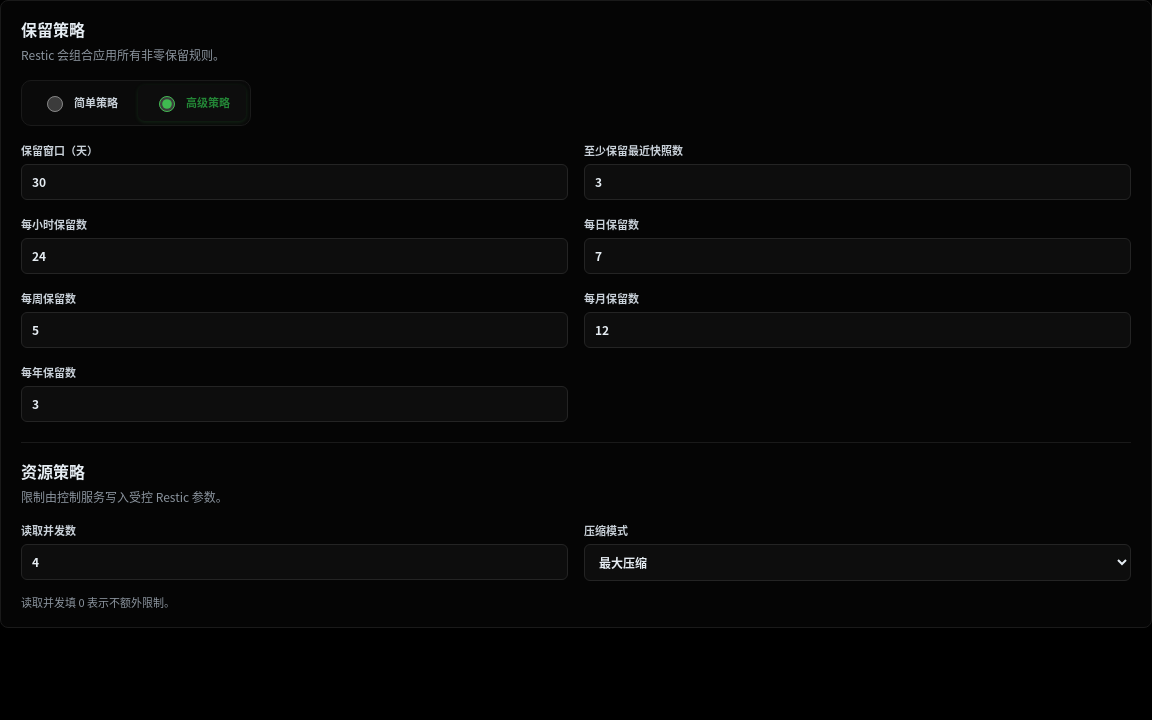
Test: ProtectionPolicyEditor › preserves every advanced value while switching modes
Check: the radio button labelled "高级策略" is checked, box [159,96,175,112]
Check: the number field labelled "每小时保留数" holds "24", box [21,238,568,274]
Replace the text in the number field labelled "每日保留数" with "8". click: point(858, 256)
box: [584,238,1131,274]
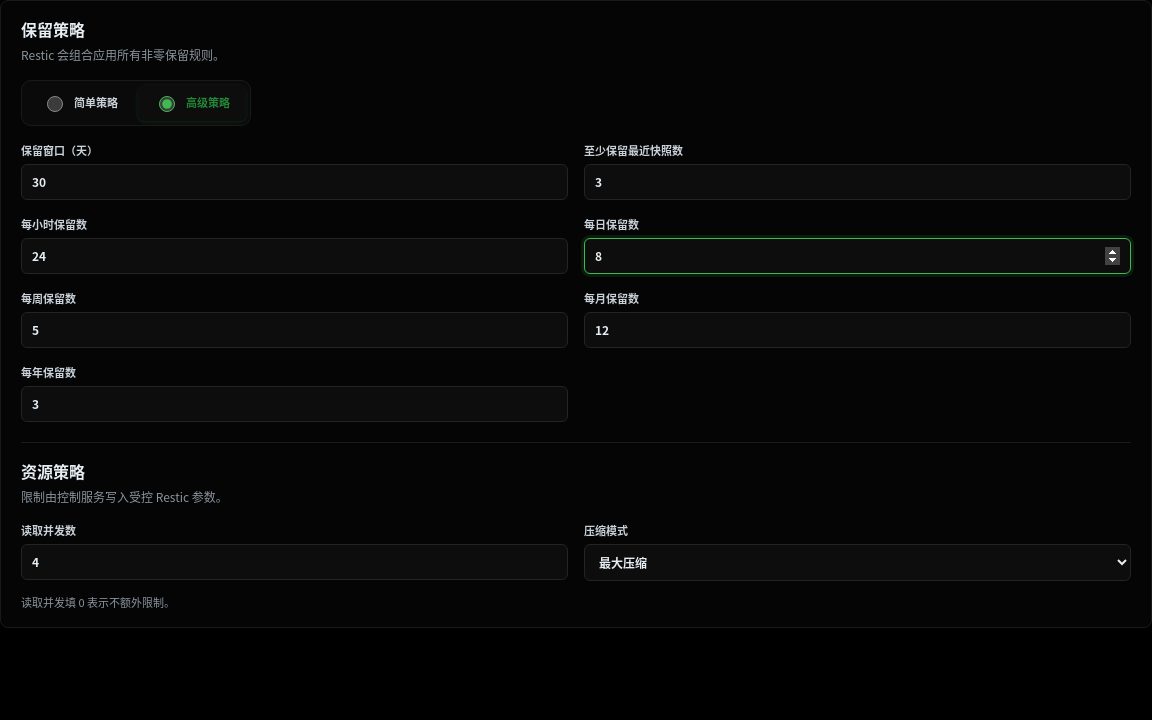
Click the radio button labelled "简单策略". click: point(55, 104)
box: [47,96,63,112]
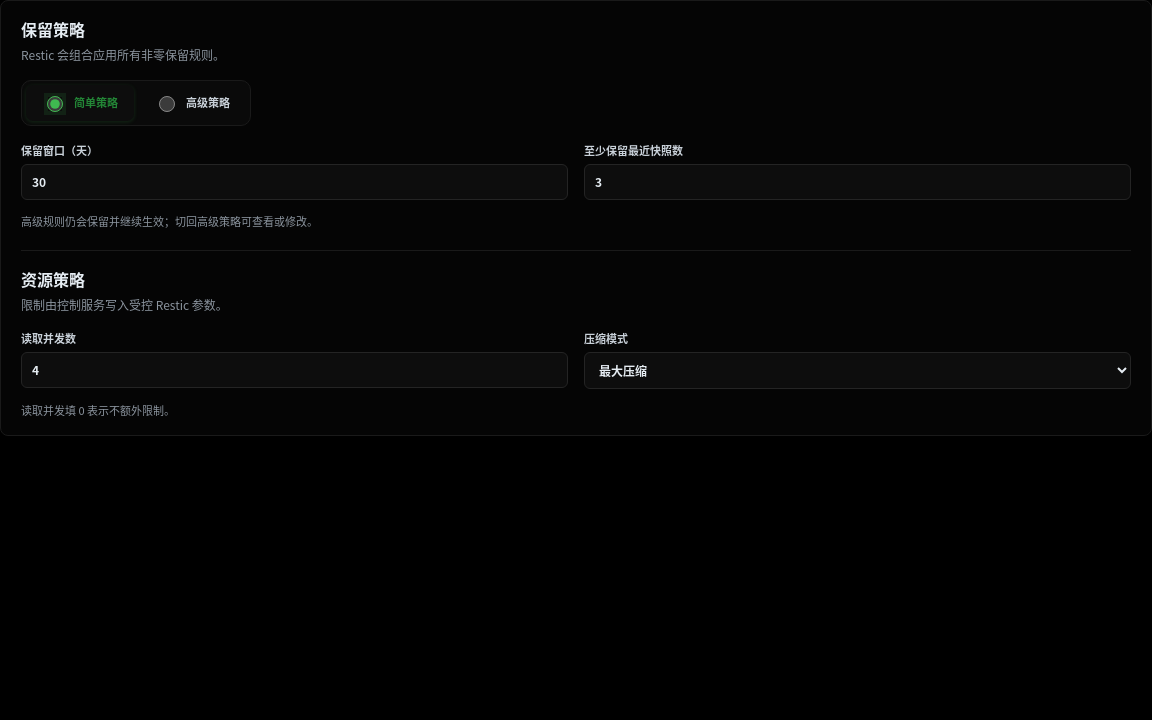
Check: the number field labelled "保留窗口（天）" holds "30", box [21,164,568,200]
Check: the label labelled "每日保留数" is gone
Click the radio button labelled "高级策略". click: point(167, 104)
box: [159,96,175,112]
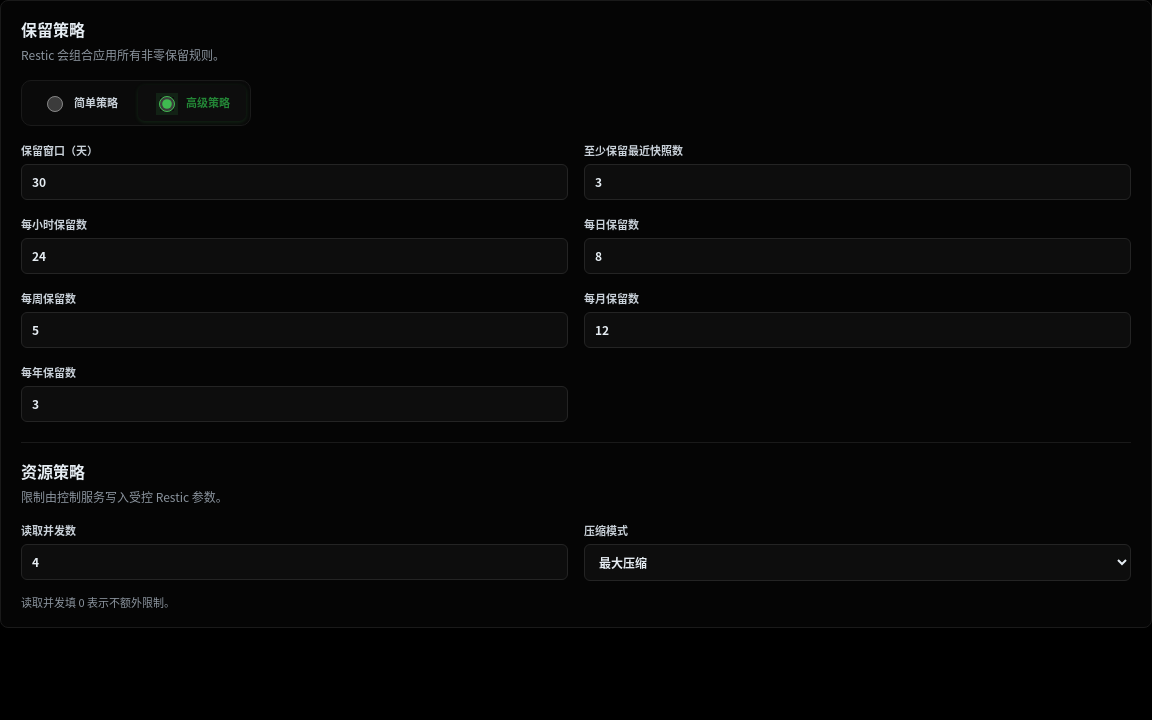
Check: the number field labelled "每日保留数" holds "8", box [584,238,1131,274]
Check: the number field labelled "每月保留数" holds "12", box [584,312,1131,348]
